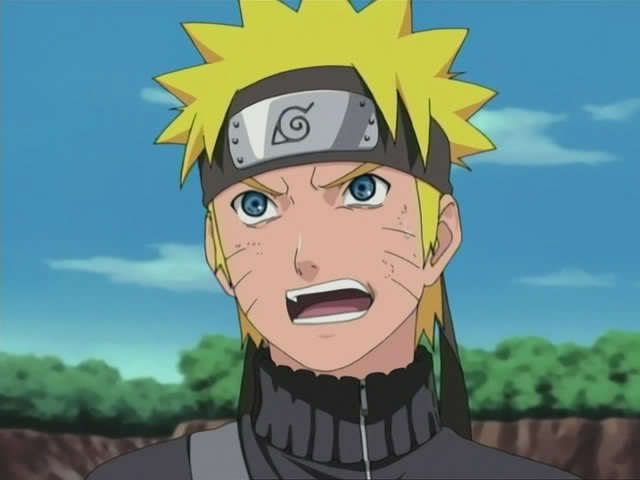naruto: (178, 63, 472, 373)
